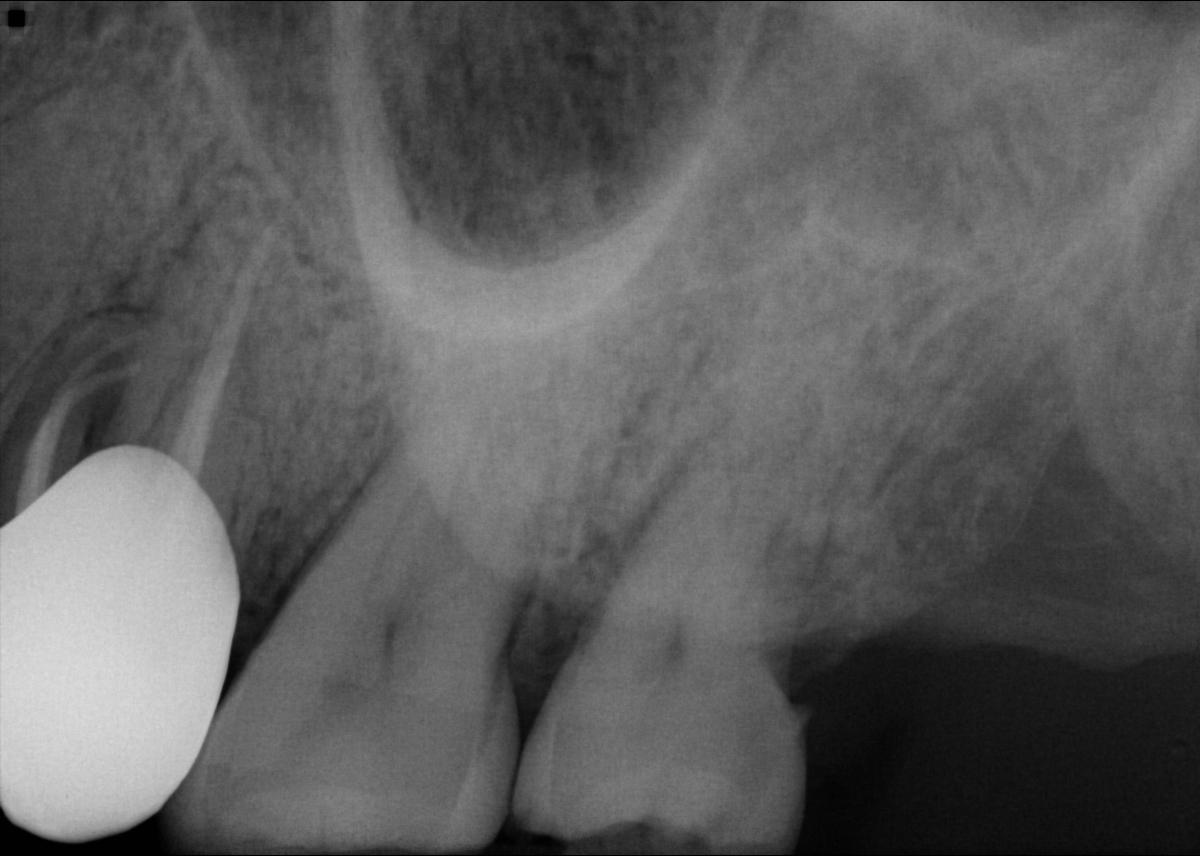Furcation Involvement: (94, 135, 269, 315)
